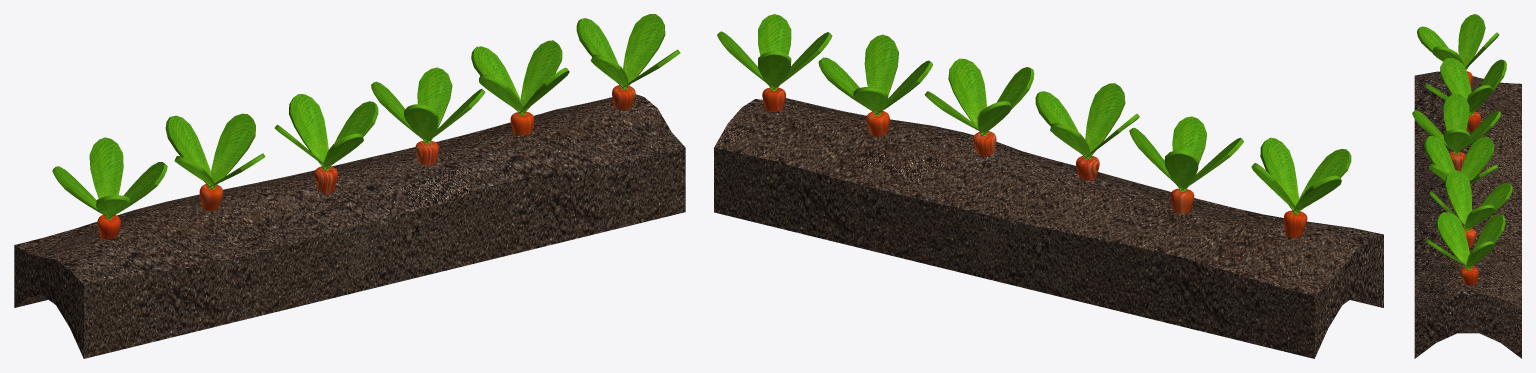
File: carrots.FBX
3 renders of one model, left to right at view 1: azimuth 30°, elevation 25°; view 2: azimuth 150°, elevation 25°; view 3: azimuth 270°, elevation 25°, orthographic. The views are drawn at different scales.
Visible parts, largest first — view 1: Box030, Box045, Box004, Box040, Box048, Box033, Box044, Box036, Box003, Box032, Box041, Box035 (+8 smaller); view 2: Box030, Box039, Box037, Box031, Box049, Box002, Box043, Box044, Box003, Box047, Box041, Box035 (+11 smaller); view 3: Box030, Box005, Box034, Box050, Box038, Box046, Box042, Box035, Box003, Box032, Box044, Box041 (+17 smaller).
Boxes of the visible parts, x1,y1,x2,y2 form: Box030: [14, 94, 685, 358]; Box045: [208, 113, 255, 189]; Box004: [621, 14, 665, 90]; Box040: [289, 94, 329, 170]; Box048: [89, 137, 123, 219]; Box033: [519, 40, 562, 115]; Box044: [165, 115, 215, 189]; Box036: [417, 67, 452, 144]; Box003: [576, 18, 627, 90]; Box032: [471, 46, 525, 115]; Box041: [323, 101, 378, 170]; Box035: [404, 104, 438, 140]; Box030: [714, 98, 1383, 358]; Box039: [1084, 83, 1125, 159]; Box037: [948, 58, 987, 136]; Box031: [864, 34, 898, 115]; Box049: [1260, 137, 1299, 214]; Box002: [758, 14, 791, 90]; Box043: [1172, 116, 1206, 191]; Box044: [1164, 150, 1198, 188]; Box003: [758, 51, 791, 87]; Box047: [1292, 149, 1351, 214]; Box041: [1035, 91, 1091, 159]; Box035: [980, 67, 1034, 135]; Box030: [1414, 71, 1521, 358]; Box005: [1436, 212, 1471, 269]; Box034: [1444, 170, 1471, 231]; Box050: [1458, 14, 1485, 70]; Box038: [1461, 136, 1494, 181]; Box046: [1440, 58, 1473, 115]; Box042: [1443, 93, 1469, 154]; Box035: [1424, 136, 1454, 173]; Box003: [1466, 214, 1505, 269]; Box032: [1465, 182, 1512, 230]; Box044: [1469, 59, 1506, 115]; Box041: [1444, 129, 1469, 151].
Bounding box in the file's own units: 103 × 26.22 × 20.52.
Materials: 3 (3 with a texture image).
